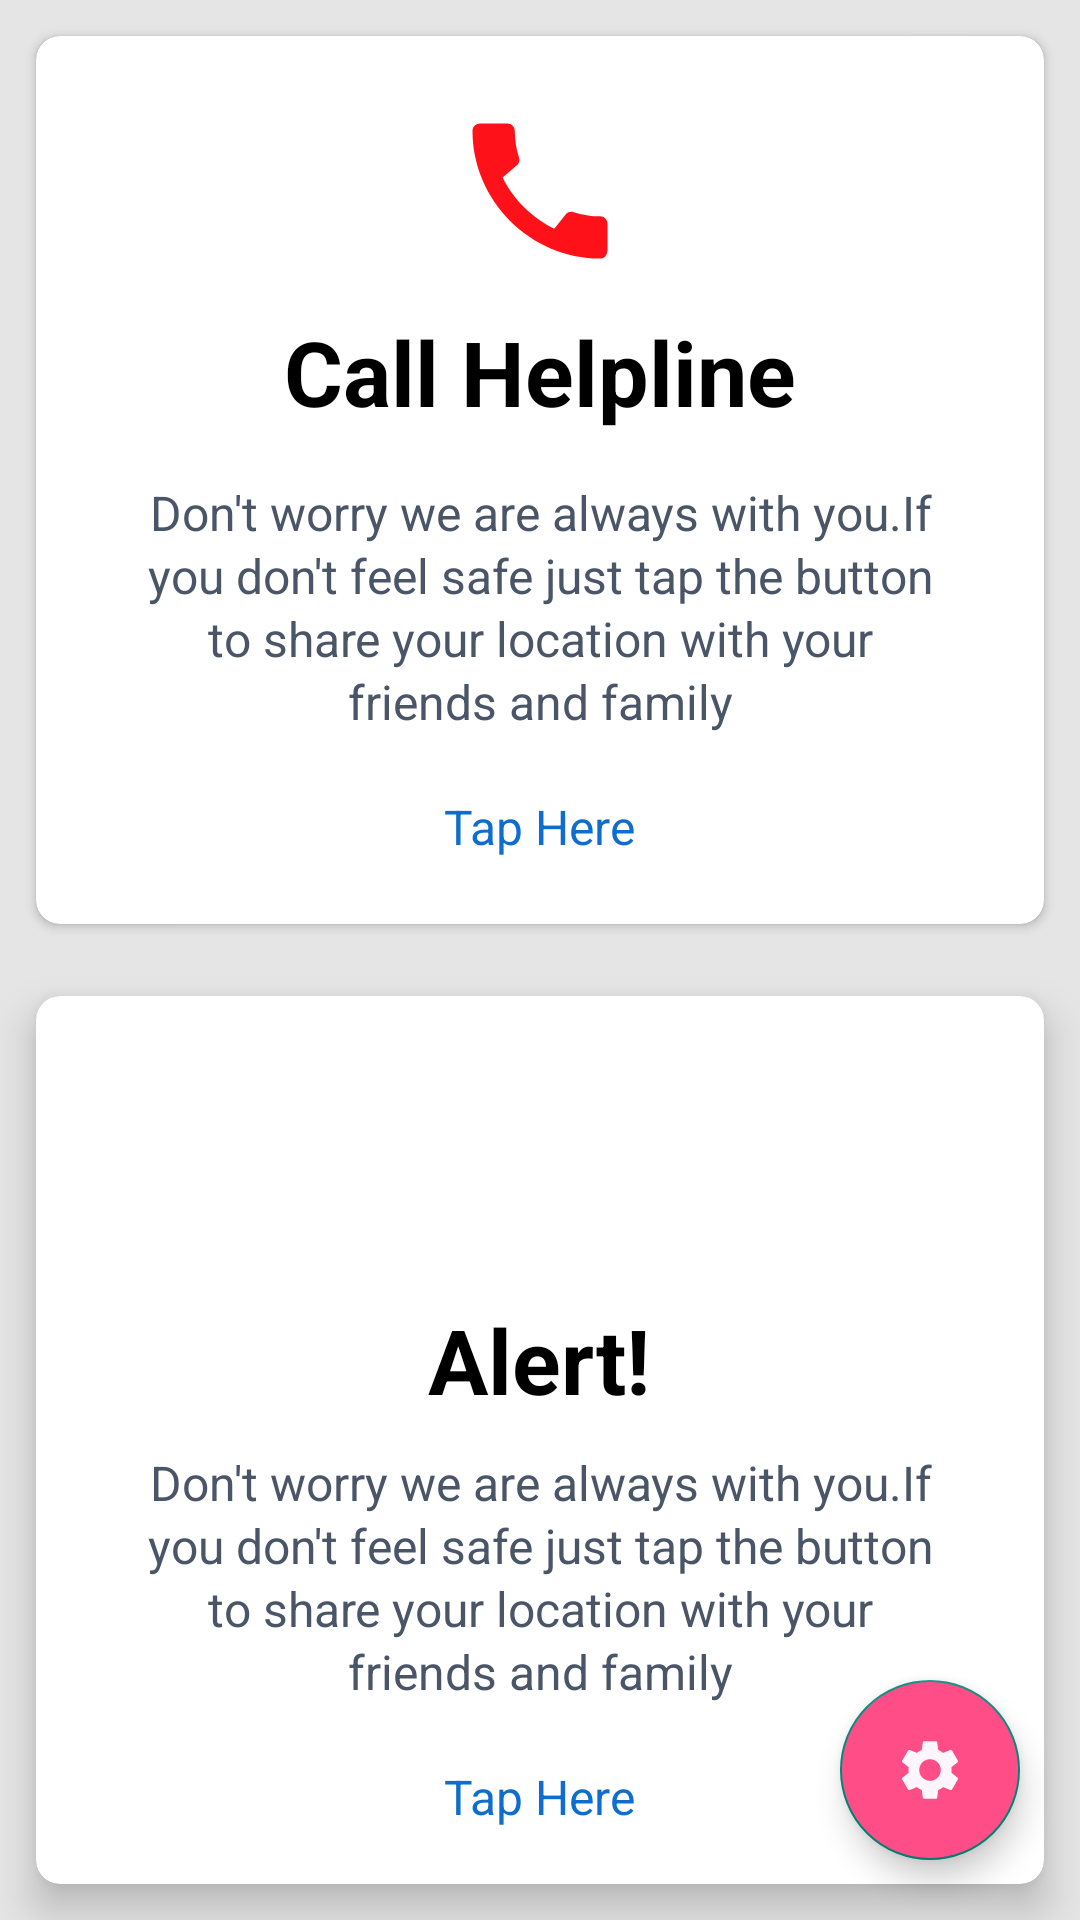

Named icons in this screenshot (1080px x 1920px) and their bounding boxes, (x1, y1, x2, y2):
settings: (840, 1680, 1020, 1860)
